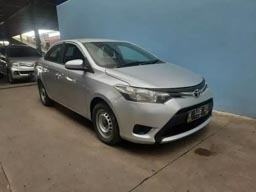plat: (189, 104, 209, 122)
